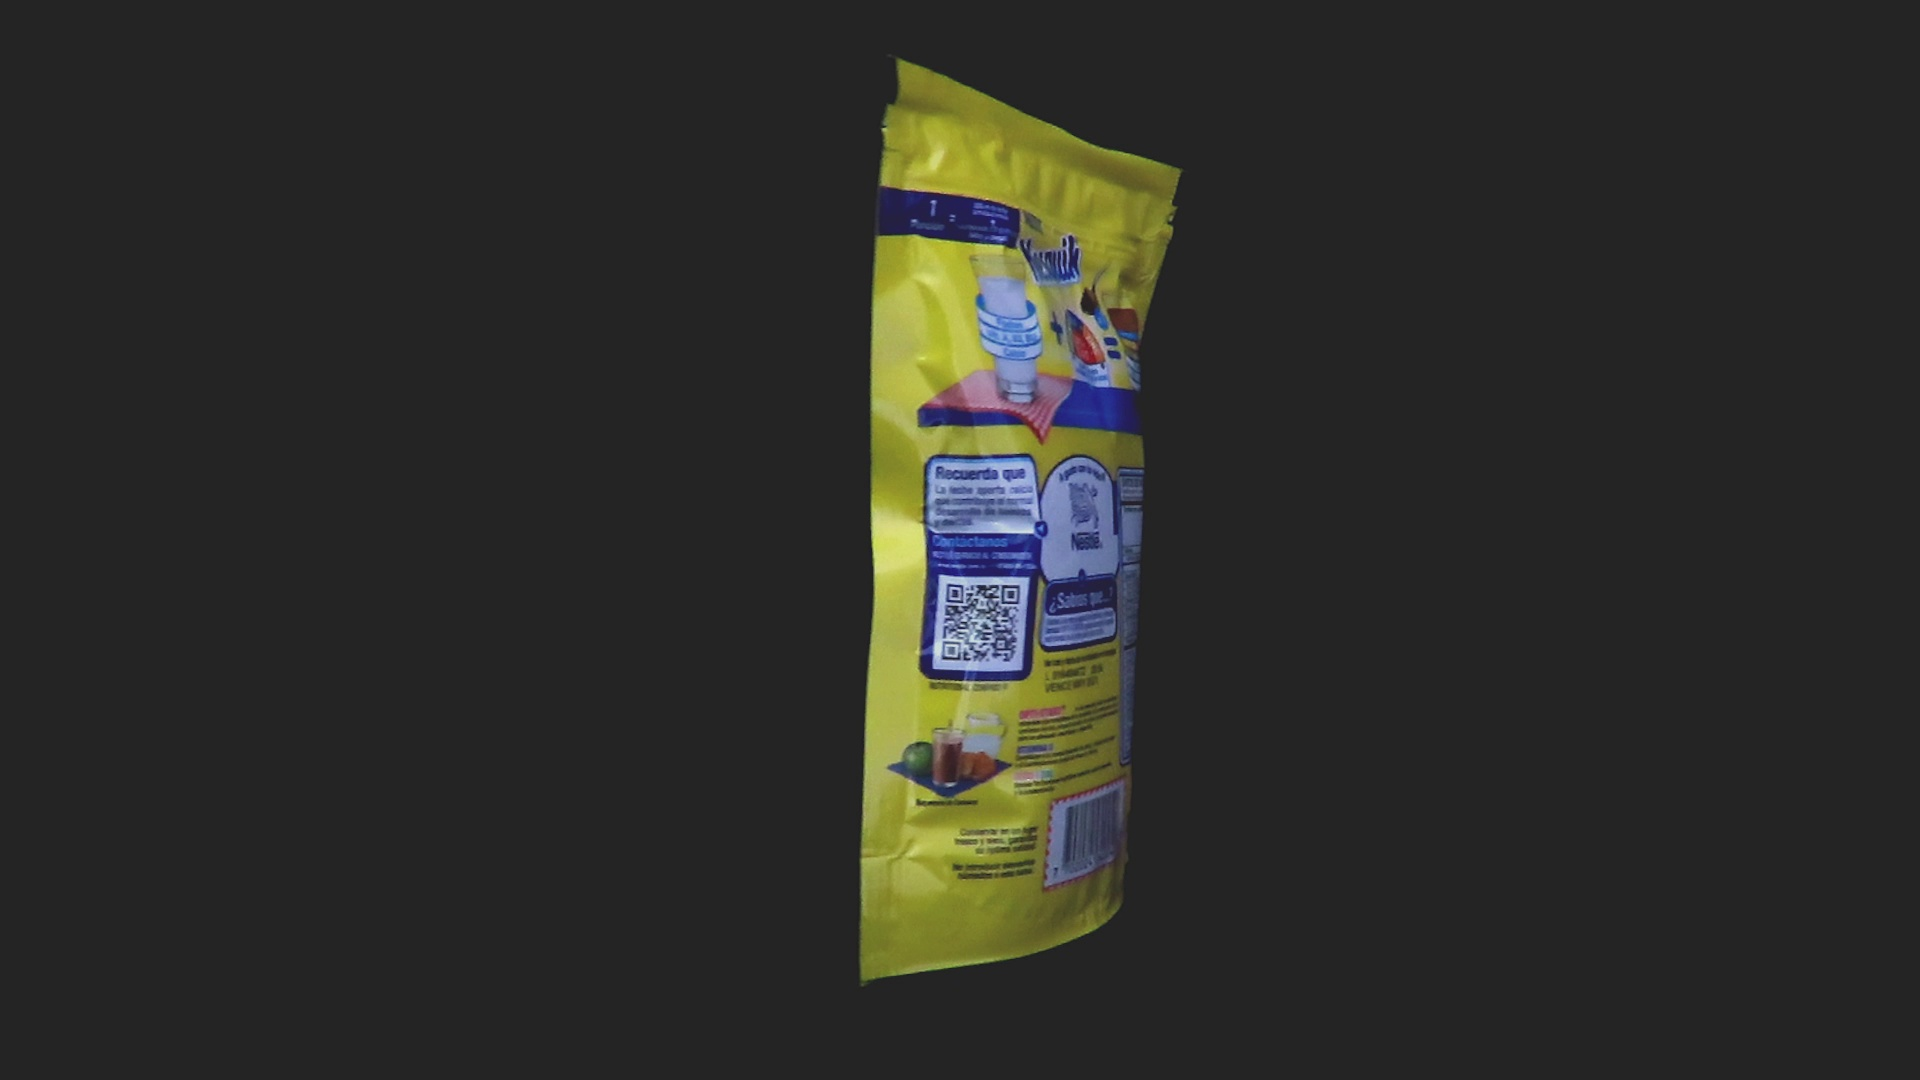COL0170303DYP20000: (855, 53, 1189, 988)
